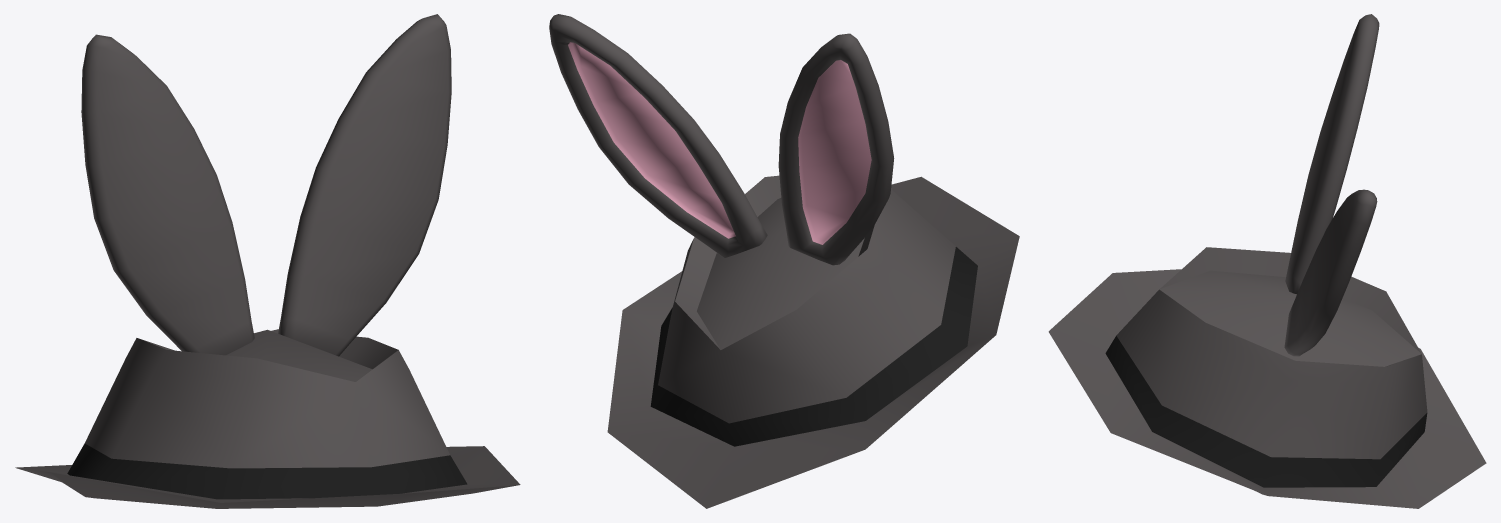
File: fedora_easter_2023.glb
The picture shows the model from 3 angles, left to right: view 1: azimuth 30°, elevation 25°; view 2: azimuth 150°, elevation 25°; view 3: azimuth 270°, elevation 25°; orthographic projection. The views are drawn at different scales.
Parts seen in each view (by area): view 1: primary, 2.019; view 2: primary, 1.040, 2.019; view 3: primary, 2.019.
Boxes of the visible parts, x1,y1,x2,y2 form: primary: (15, 14, 520, 508); 2.019: (67, 443, 467, 499); primary: (549, 14, 1019, 508); 1.040: (568, 42, 871, 244); 2.019: (650, 247, 977, 446); primary: (1048, 14, 1486, 508); 2.019: (1105, 336, 1427, 487).
Bounding box in the file's own units: 0.4912 × 0.5321 × 0.5109.
